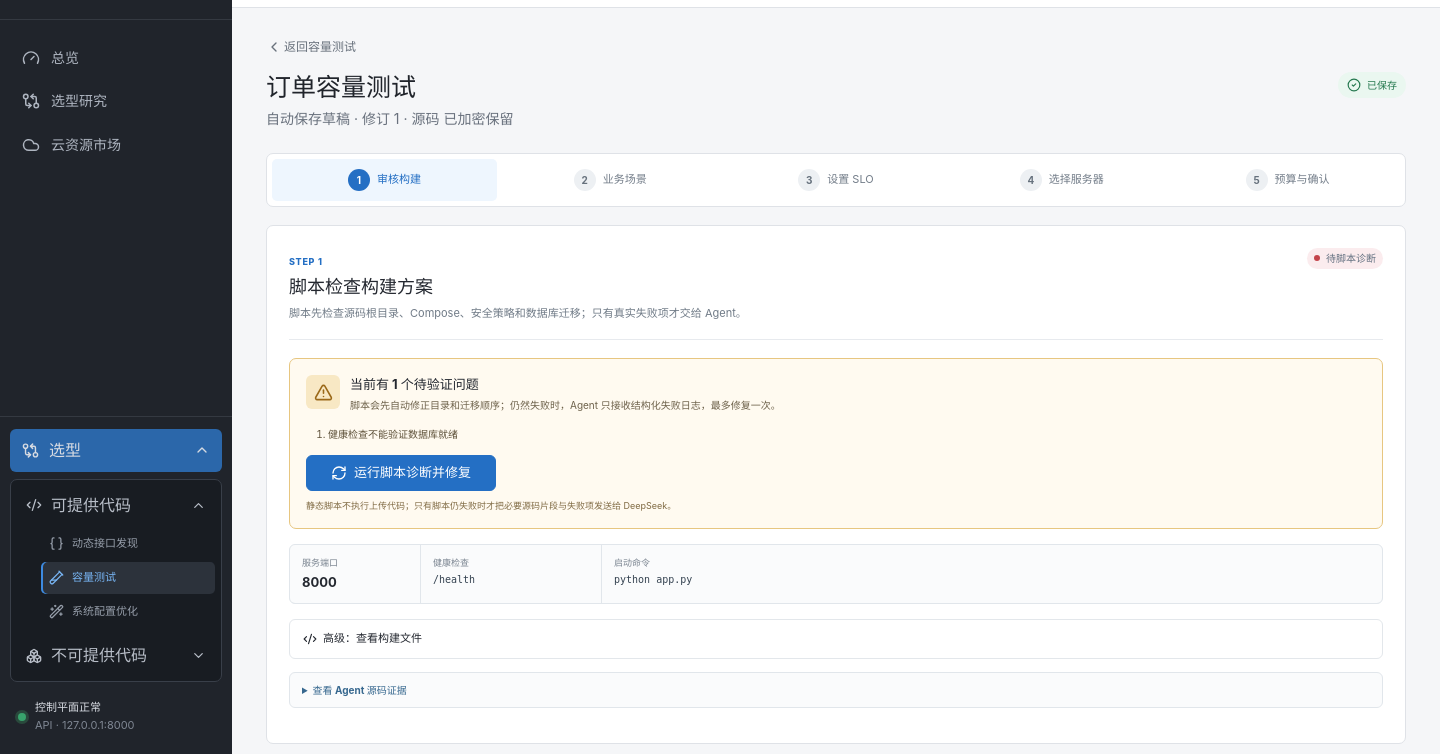
Test: 普通用户可运行脚本诊断构建阻断项，无需编辑 Dockerfile
Expected: the text "当前有 1 个待验证问题" is shown, [350,376,479,392]
Expected: the list item "健康检查不能验证数据库就绪" is shown, [328,428,458,440]
Click the button "运行脚本诊断并修复" at x=401, y=473, box [306,455,496,491]
(page scrolled)
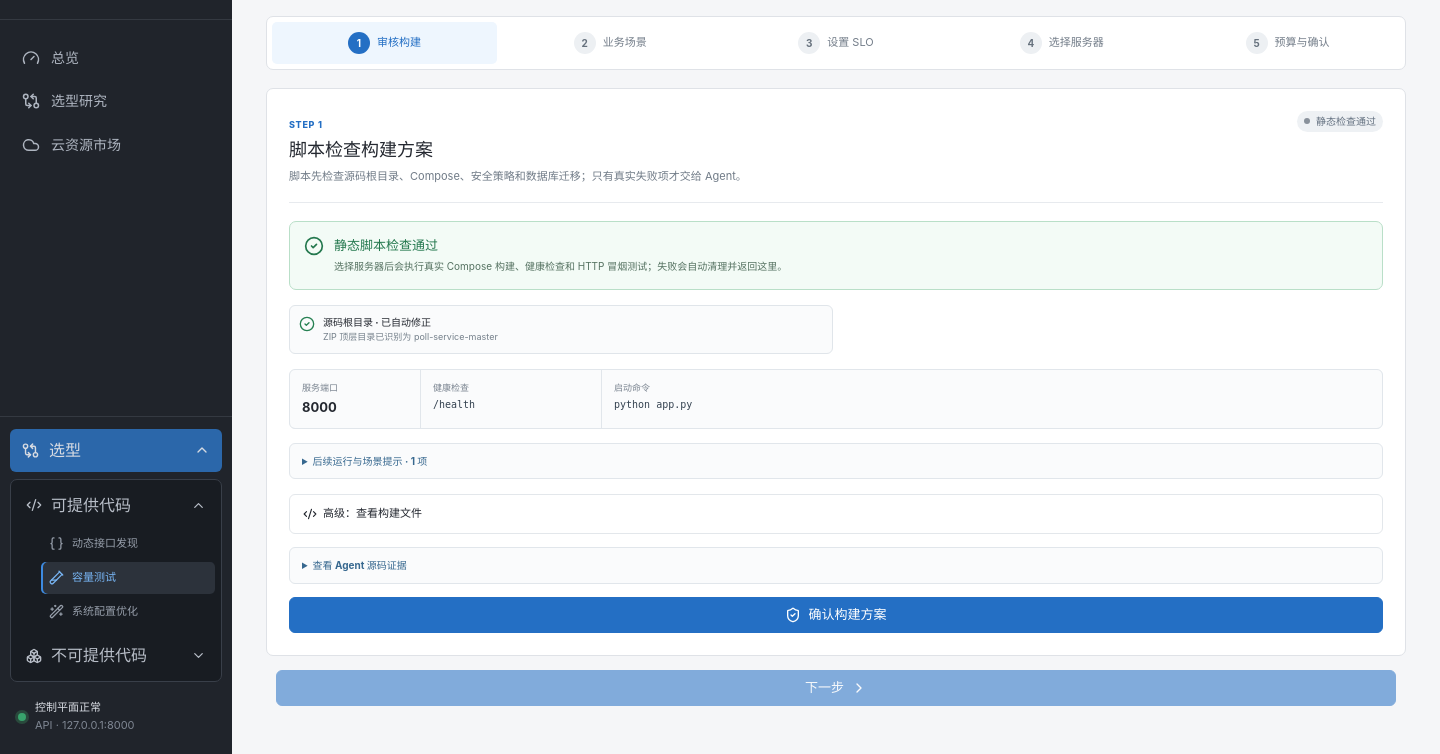
Expected: the text "静态脚本检查通过" is shown, [334,237,438,253]
Expected: the text "源码根目录 · 已自动修正" is shown, [323,316,431,328]
Expected: the text "ZIP 顶层目录已识别为 poll-service-master" is shown, [323,331,498,344]
